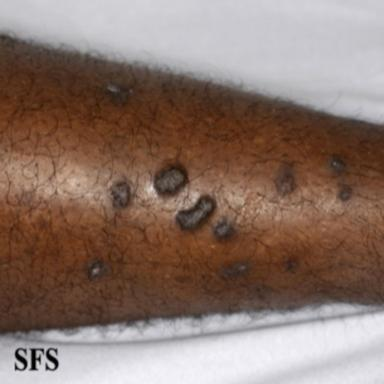lichen: (176, 196, 215, 229), (154, 165, 188, 194), (103, 82, 132, 105), (275, 164, 295, 196), (111, 180, 131, 208), (221, 262, 248, 279), (214, 219, 234, 238), (87, 260, 107, 279), (329, 155, 345, 174), (339, 187, 353, 201), (285, 259, 298, 273)
